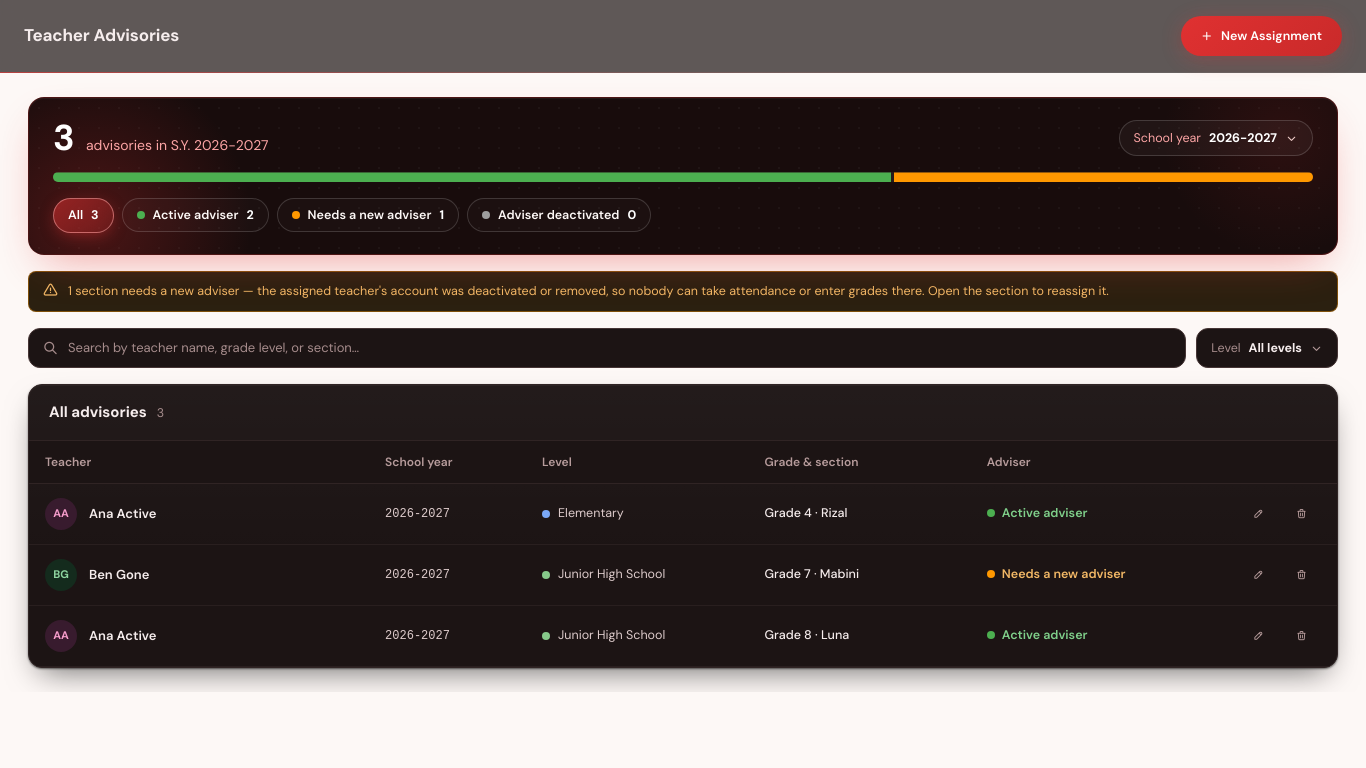
Test: Teacher advisories — dark mode › shows the list, and the remove confirm, on a dark page
Expected: the text "Grade 4 · Rizal" is shown, x1=764 y1=505 x2=847 y2=521
Click the 1st button named "Remove Ana Active's advisory" at (1302, 514), box x1=1282 y1=498 x2=1321 y2=530
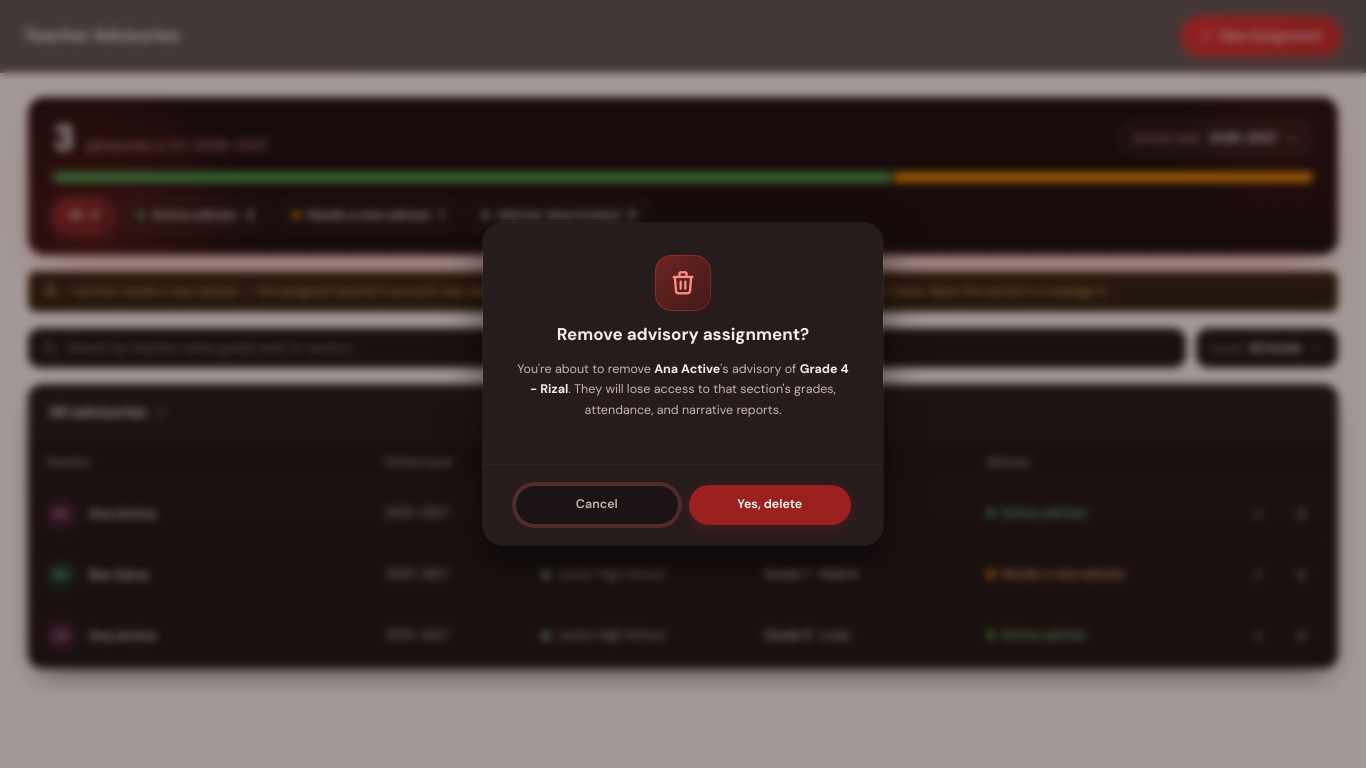
Result: the heading "Remove advisory assignment?" is shown at x1=557 y1=323 x2=809 y2=347
